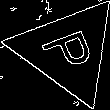P_E: (35, 24, 101, 77)
